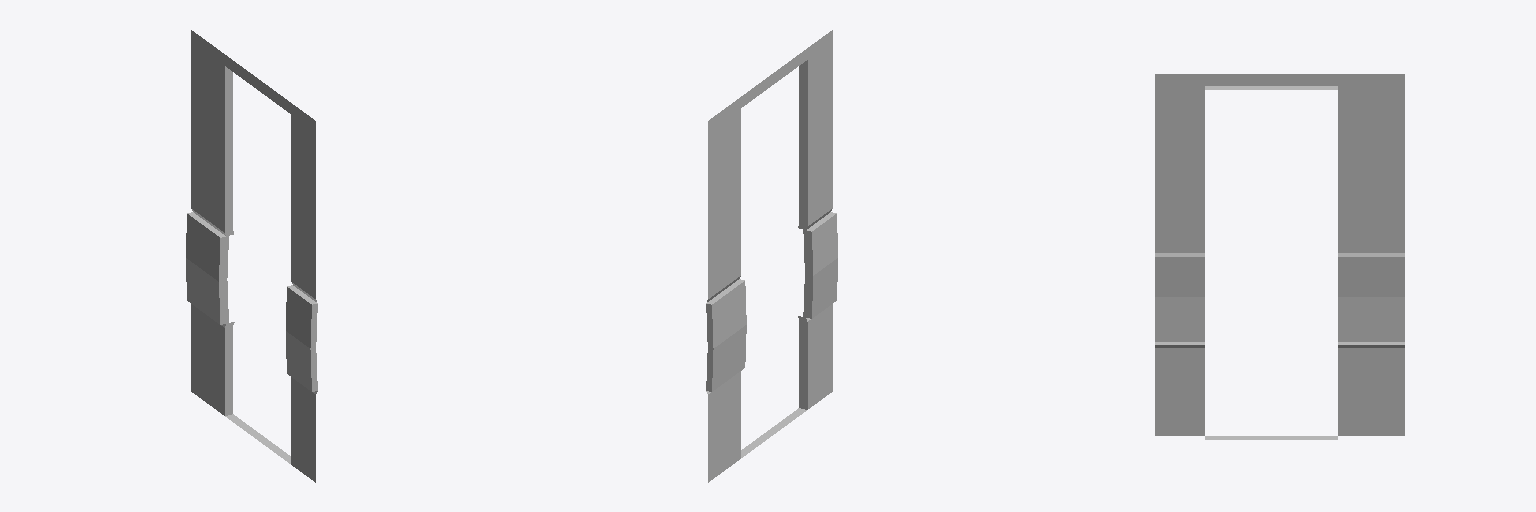
The model's file is wall_door.obj.
3 views of the same model, side by side, from view 1: azimuth 30°, elevation 25°; view 2: azimuth 150°, elevation 25°; view 3: azimuth 270°, elevation 25° (orthographic).
Parts seen in each view (by area): view 1: Cube.012_Cube.016; view 2: Cube.012_Cube.016; view 3: Cube.012_Cube.016.
Part boxes in pixels (x1,y1,x2,y2): Cube.012_Cube.016: (186, 30, 317, 482); Cube.012_Cube.016: (706, 30, 837, 482); Cube.012_Cube.016: (1155, 74, 1404, 439).
Bounding box in the file's own units: 0.3676 × 8 × 5.